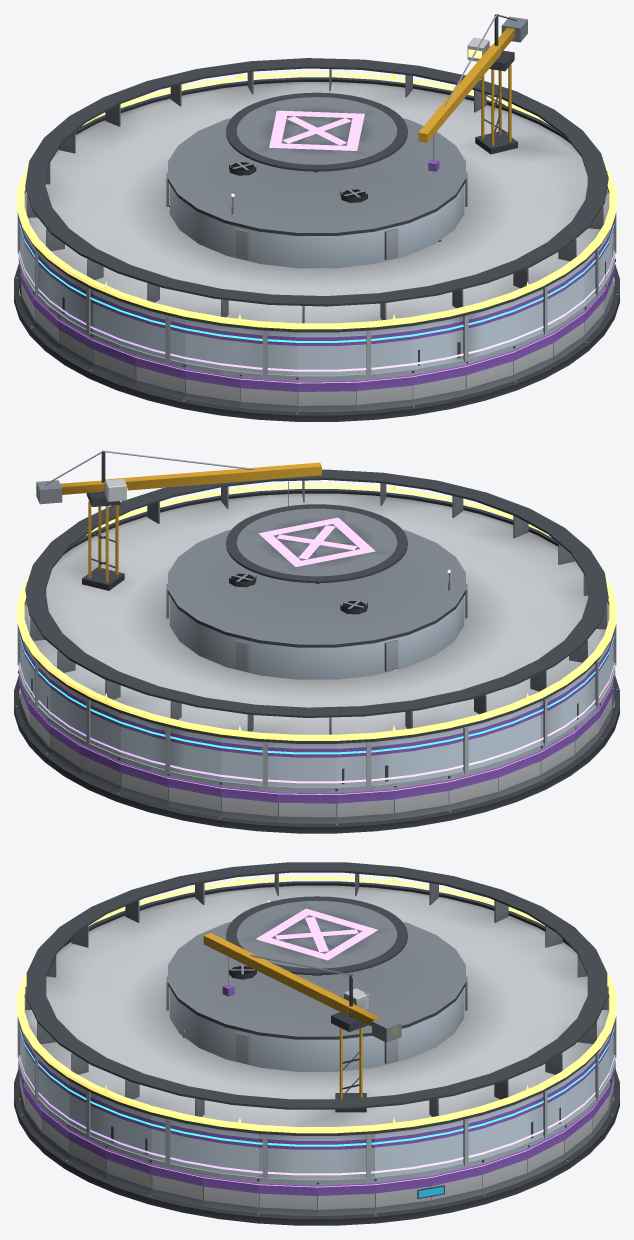
Rendered from cold_storage_xl.glb.
The picture shows the model from 3 angles, top to bottom: view 1: azimuth 30°, elevation 25°; view 2: azimuth 150°, elevation 25°; view 3: azimuth 270°, elevation 25°; orthographic projection.
Visible parts, largest first — view 1: Roof, Base, L5, Upper_22, Upper_20, Upper_21, Upper_19, Upper_23, Upper_18, Upper_24, Wall_20, Wall_21 (+17 smaller); view 2: Roof, Base, L5, Upper_10, Upper_09, Upper_11, Upper_12, Upper_08, Upper_13, Upper_07, Wall_10, Wall_11 (+18 smaller); view 3: Roof, Base, L5, Upper_00, Upper_31, Upper_01, Upper_30, Upper_02, Upper_29, Wall_00, Wall_31, Upper_03 (+19 smaller).
Boxes of the visible parts, bbox=[...] form: Roof: bbox=[24, 14, 609, 332]; Base: bbox=[14, 264, 619, 421]; L5: bbox=[17, 73, 616, 329]; Upper_22: bbox=[355, 326, 412, 377]; Upper_20: bbox=[240, 328, 297, 377]; Upper_21: bbox=[297, 331, 355, 375]; Upper_19: bbox=[185, 319, 240, 371]; Upper_23: bbox=[412, 316, 466, 368]; Upper_18: bbox=[136, 306, 185, 362]; Upper_24: bbox=[465, 301, 512, 361]; Wall_20: bbox=[239, 374, 297, 411]; Wall_21: bbox=[297, 379, 355, 411]; Roof: bbox=[24, 450, 609, 743]; Base: bbox=[14, 675, 619, 833]; L5: bbox=[17, 484, 616, 740]; Upper_10: bbox=[278, 743, 336, 786]; Upper_09: bbox=[221, 737, 278, 788]; Upper_11: bbox=[336, 739, 393, 788]; Upper_12: bbox=[393, 731, 448, 782]; Upper_08: bbox=[167, 727, 221, 780]; Upper_13: bbox=[448, 718, 497, 774]; Upper_07: bbox=[121, 713, 168, 773]; Wall_10: bbox=[278, 790, 336, 823]; Wall_11: bbox=[336, 787, 394, 823]; Roof: bbox=[24, 862, 609, 1135]; Base: bbox=[14, 1069, 619, 1225]; L5: bbox=[17, 877, 616, 1133]; Upper_00: bbox=[317, 1134, 374, 1181]; Upper_31: bbox=[259, 1134, 316, 1181]; Upper_01: bbox=[375, 1126, 430, 1176]; Upper_30: bbox=[203, 1126, 258, 1176]; Upper_02: bbox=[430, 1115, 482, 1169]; Upper_29: bbox=[151, 1115, 203, 1169]; Wall_00: bbox=[317, 1182, 375, 1215]; Wall_31: bbox=[258, 1182, 316, 1215]; Upper_03: bbox=[482, 1099, 526, 1158].
Bounding box in the file's own units: 21.35 × 8.53 × 21.35.
